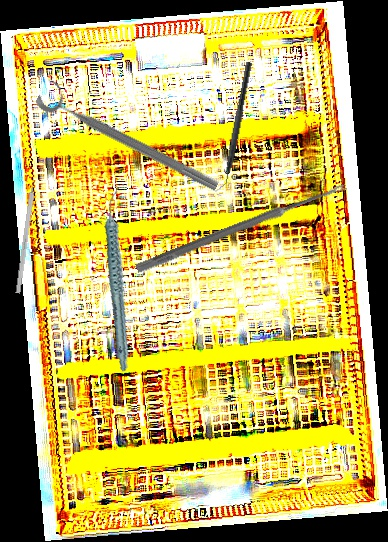Chopper: (213, 60, 253, 195)
Fixation Ring: (33, 76, 227, 197)
Handpiece: (82, 189, 156, 373)
Hook Surgical: (15, 169, 38, 294)
Surgical Spoon: (135, 180, 348, 275)
